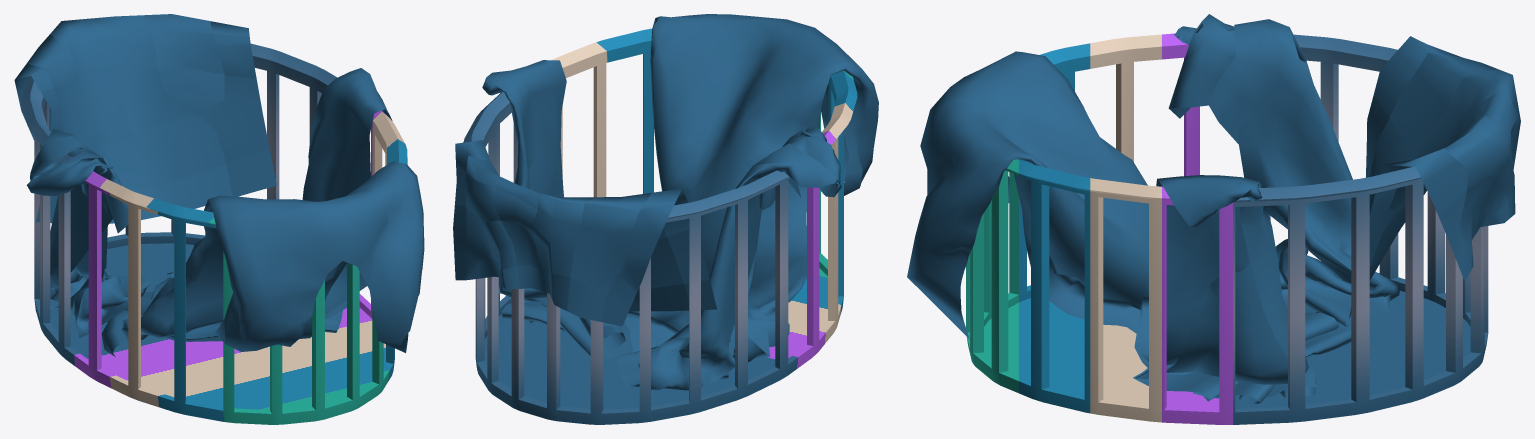
Rendered from MS_Dirty washing.fbx.
The picture shows the model from 3 angles, left to right: view 1: azimuth 30°, elevation 25°; view 2: azimuth 150°, elevation 25°; view 3: azimuth 270°, elevation 25°; orthographic projection. The views are drawn at different scales.
Visible parts, largest first — view 1: Cl_3; view 2: Cl_3; view 3: Cl_3.
Boxes of the visible parts, x1,y1,x2,y2 form: Cl_3: (14,14,424,424); Cl_3: (453,14,878,424); Cl_3: (907,14,1520,424).
Bounding box in the file's own units: 541 × 341 × 735.
